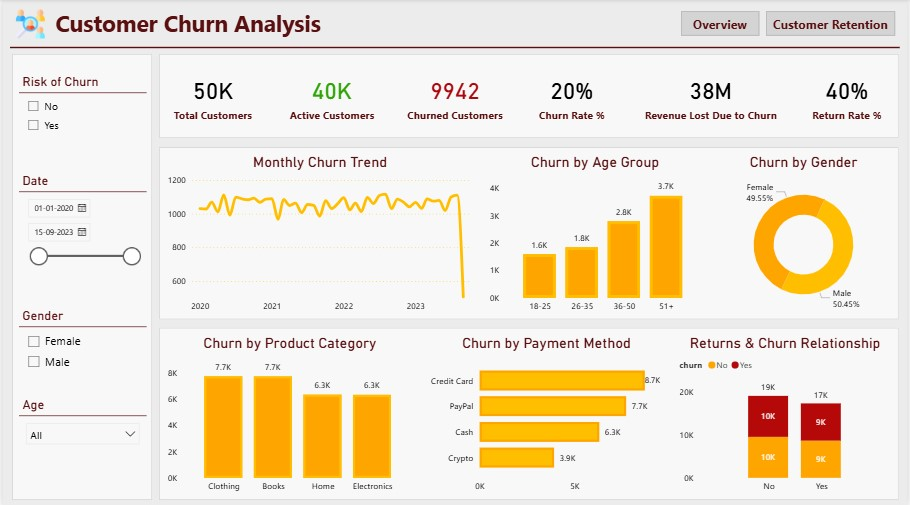

What the dashboard file says about the page in this screenshot:
{"tool":"powerbi","page":{"name":"Overview","canvas":[1280,720],"ordinal":0},"visuals":[{"type":"shape","box":[9.9,8.5,1261.4,120.5],"z":0},{"type":"card","fields":{"Values":["ecommerce_customer_cleaned_data.total_customers"]},"box":[222.5,90.7,150,95],"z":1000},{"type":"card","fields":{"Values":["ecommerce_customer_cleaned_data.active_customers"]},"box":[391.2,90.7,150.2,95],"z":2000},{"type":"card","fields":{"Values":["ecommerce_customer_cleaned_data.Revenue Lost Due to Churn"]},"box":[904.3,90.7,198.4,95],"z":3000},{"type":"card","fields":{"Values":["ecommerce_customer_cleaned_data.Churn Rate"]},"box":[731.3,90.7,150.2,95],"z":4000},{"type":"card","fields":{"Values":["ecommerce_customer_cleaned_data.churned_customers"]},"box":[565.5,90.7,150.2,95],"z":5000},{"type":"lineChart","title":"Monthly Churn Trend","fields":{"Y":["ecommerce_customer_cleaned_data.churned_customers"],"Category":["Date.YearMonth"]},"box":[228.2,219.7,442.2,233.9],"z":6000},{"type":"clusteredColumnChart","title":"Churn by Age Group","fields":{"Category":["ecommerce_customer_cleaned_data.age_group"],"Y":["ecommerce_customer_cleaned_data.churned_customers"]},"box":[684.6,219.7,309,233.9],"z":7000},{"type":"donutChart","title":"Churn by Gender","fields":{"Y":["ecommerce_customer_cleaned_data.churned_customers"],"Category":["ecommerce_customer_cleaned_data.gender"]},"box":[1004.9,219.7,259.4,233.9],"z":8000},{"type":"clusteredColumnChart","title":"Churn by Product Category","fields":{"Category":["ecommerce_customer_cleaned_data.product_category"],"Y":["ecommerce_customer_cleaned_data.churned_customers"]},"box":[228.2,476.2,357.2,232.4],"z":9000},{"type":"clusteredBarChart","title":"Churn by Payment Method","fields":{"Category":["ecommerce_customer_cleaned_data.payment_method"],"Y":["ecommerce_customer_cleaned_data.churned_customers"]},"box":[596.7,476.2,347.2,232.4],"z":10000},{"type":"columnChart","title":"Returns & Churn Relationship","fields":{"Y":["ecommerce_customer_cleaned_data.churned_customers"],"Category":["ecommerce_customer_cleaned_data.returns"],"Series":["ecommerce_customer_cleaned_data.churn"]},"box":[953.9,476.2,309,232.4],"z":11000},{"type":"textbox","box":[69.4,7.1,408.2,56.7],"z":12000},{"type":"image","box":[11.3,9.9,55.3,51],"z":13000},{"type":"card","fields":{"Values":["ecommerce_customer_cleaned_data.return_rate_of_churn_customers"]},"box":[1121.1,90.7,150.2,95],"z":14000},{"type":"slicer","title":"Risk of Churn","fields":{"Values":["ecommerce_customer_cleaned_data.churn"]},"box":[22.7,106.3,181.4,113.4],"z":15000},{"type":"slicer","title":"Date","fields":{"Values":["ecommerce_customer_cleaned_data.purchase_date"]},"box":[22.7,246.6,181.4,146],"z":16000},{"type":"slicer","title":"Gender","fields":{"Values":["ecommerce_customer_cleaned_data.gender"]},"box":[22.7,438,181.4,103.5],"z":17000},{"type":"slicer","title":"Age","fields":{"Values":["ecommerce_customer_cleaned_data.customer_age"]},"box":[22.7,564.1,181.4,93.5],"z":18000},{"type":"actionButton","title":"Churn Insights","box":[960.9,17,110.6,35.4],"z":19000},{"type":"actionButton","title":"Churn Insights","box":[1081.4,17,182.8,35.4],"z":20000}]}

Visuals, with their boxes on the page's 1280x720 design canvas (x1, y1, x2, y2). These are canvas units, not pixel positions in the 910x505 screenshot, which may show the page scaled, cropped or inside an application window:
shape: <box>10,8,1271,129</box>
card - ecommerce_customer_cleaned_data.total_customers: <box>222,91,372,186</box>
card - ecommerce_customer_cleaned_data.active_customers: <box>391,91,541,186</box>
card - ecommerce_customer_cleaned_data.Revenue Lost Due to Churn: <box>904,91,1103,186</box>
card - ecommerce_customer_cleaned_data.Churn Rate: <box>731,91,882,186</box>
card - ecommerce_customer_cleaned_data.churned_customers: <box>566,91,716,186</box>
"Monthly Churn Trend" lineChart: <box>228,220,670,454</box>
"Churn by Age Group" clusteredColumnChart: <box>685,220,994,454</box>
"Churn by Gender" donutChart: <box>1005,220,1264,454</box>
"Churn by Product Category" clusteredColumnChart: <box>228,476,585,709</box>
"Churn by Payment Method" clusteredBarChart: <box>597,476,944,709</box>
"Returns & Churn Relationship" columnChart: <box>954,476,1263,709</box>
textbox: <box>69,7,478,64</box>
image: <box>11,10,67,61</box>
card - ecommerce_customer_cleaned_data.return_rate_of_churn_customers: <box>1121,91,1271,186</box>
"Risk of Churn" slicer: <box>23,106,204,220</box>
"Date" slicer: <box>23,247,204,393</box>
"Gender" slicer: <box>23,438,204,542</box>
"Age" slicer: <box>23,564,204,658</box>
"Churn Insights" actionButton: <box>961,17,1072,52</box>
"Churn Insights" actionButton: <box>1081,17,1264,52</box>
